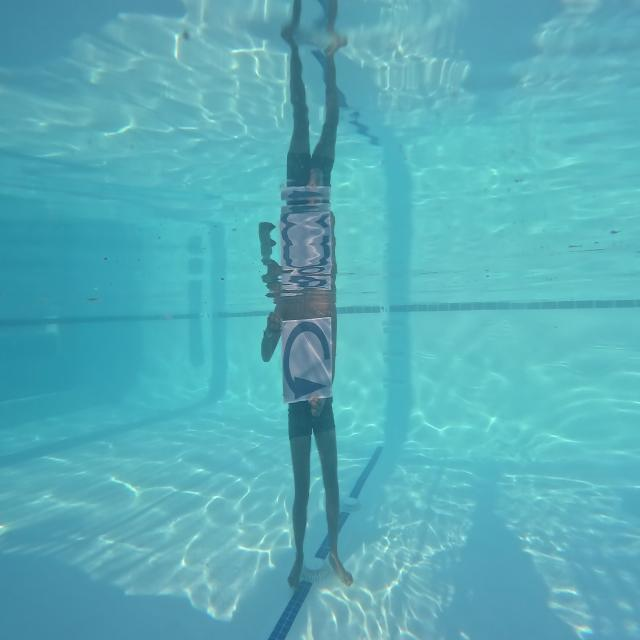blue_side: (282, 320, 334, 404)
